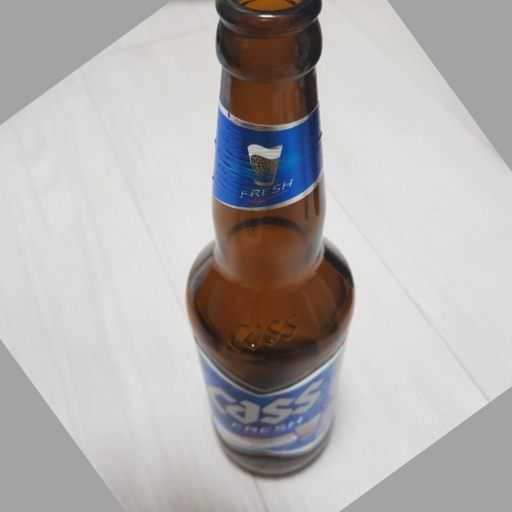Glass_1: (176, 1, 363, 483)
